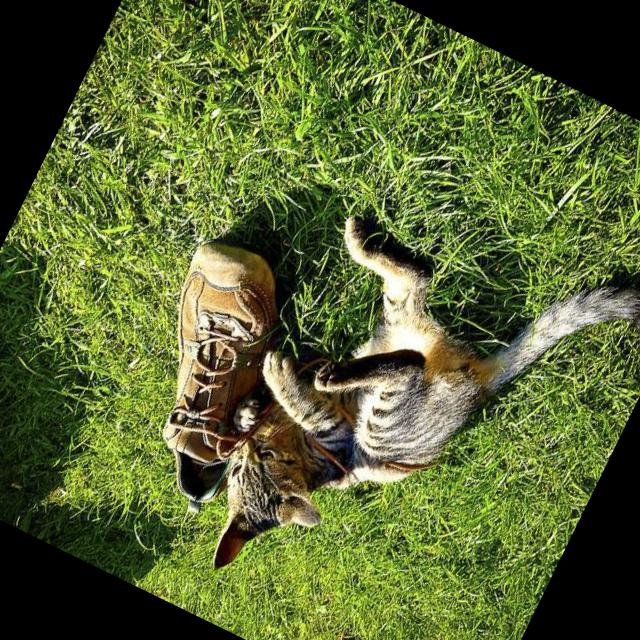cat: (167, 149, 640, 640)
